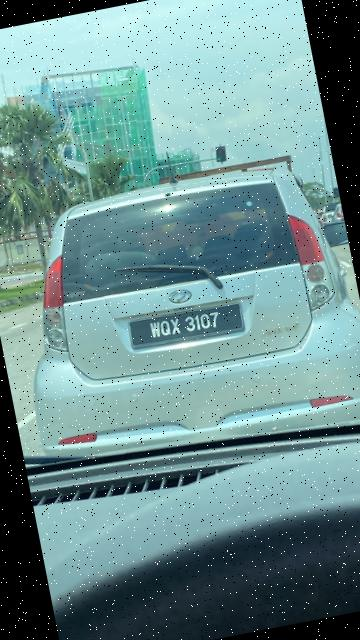License_Plate: (130, 302, 240, 351)
car: (1, 148, 360, 488)
